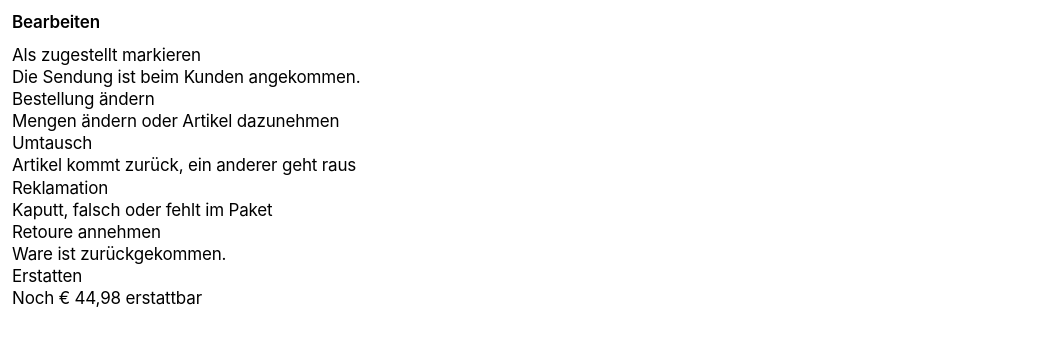
Test: mark as delivered shows at once › a clear refusal takes it back and shows the reason
The width and height of the screenshot is (1048, 347).
Click the button "Als zugestellt markieren" at [106, 55], box [12,44,1036,88]
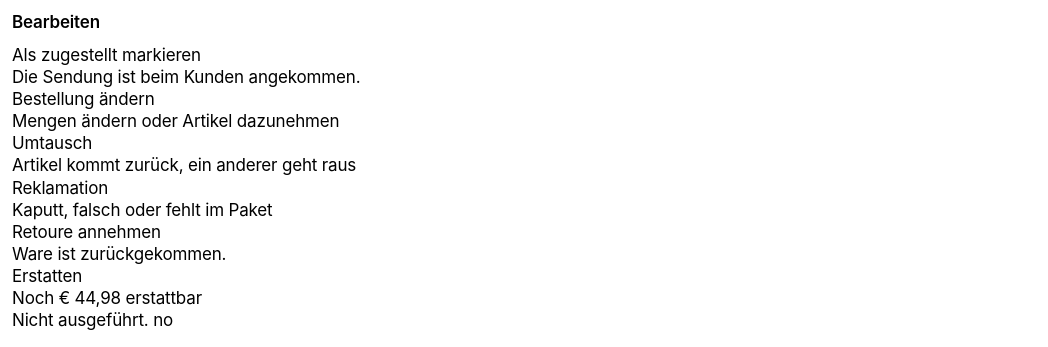
Check: the text "Nicht ausgeführt. no" is shown, box [12,310,173,330]
